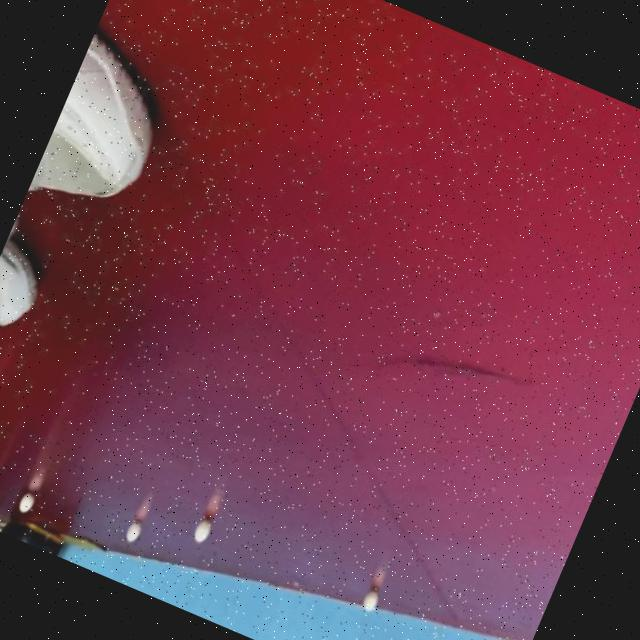ping-pong-ball: (189, 509, 218, 546), (358, 580, 386, 614), (14, 483, 41, 518), (122, 513, 146, 545)
